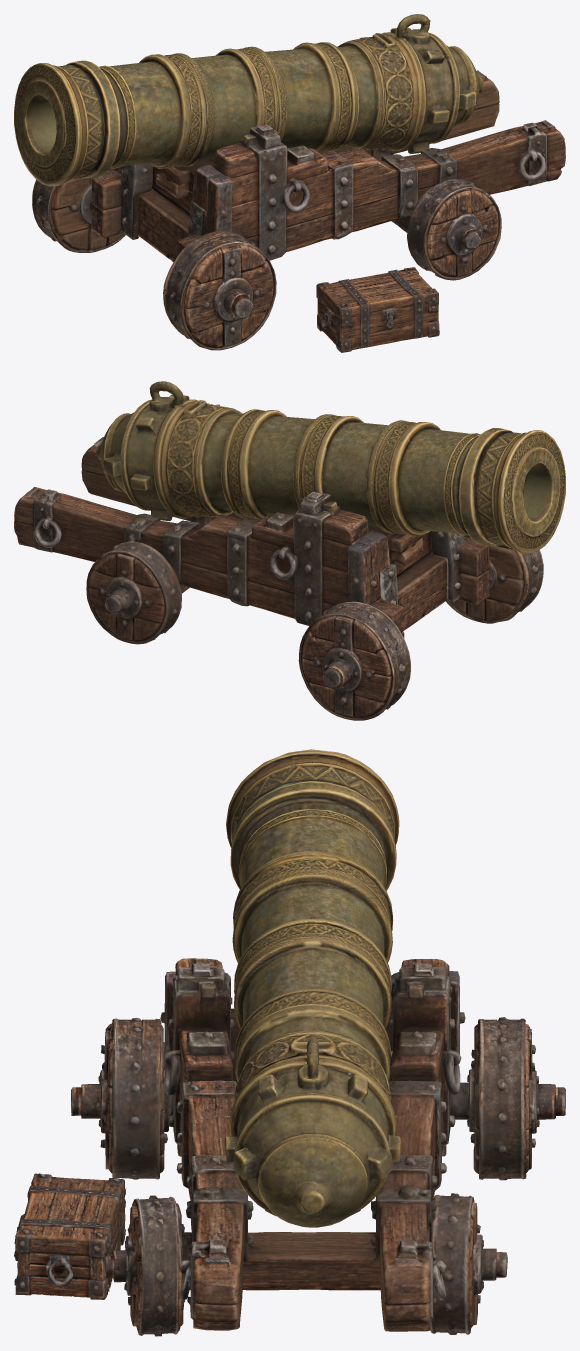
The model's file is Büyük kuşatma topu.glb.
The picture shows the model from 3 angles, top to bottom: view 1: azimuth 30°, elevation 25°; view 2: azimuth 150°, elevation 25°; view 3: azimuth 270°, elevation 25°; orthographic projection. The views are drawn at different scales.
Visible parts, largest first — view 1: tripo_node_1702b4b6-042f-48db-9d67-8234dbed1994; view 2: tripo_node_1702b4b6-042f-48db-9d67-8234dbed1994; view 3: tripo_node_1702b4b6-042f-48db-9d67-8234dbed1994.
Boxes of the visible parts, bbox=[...] form: tripo_node_1702b4b6-042f-48db-9d67-8234dbed1994: bbox=[14, 14, 565, 352]; tripo_node_1702b4b6-042f-48db-9d67-8234dbed1994: bbox=[14, 381, 565, 720]; tripo_node_1702b4b6-042f-48db-9d67-8234dbed1994: bbox=[14, 749, 565, 1336].
Bounding box in the file's own units: 0.9799 × 0.4932 × 0.69.
Materials: 1 (1 with a texture image).
